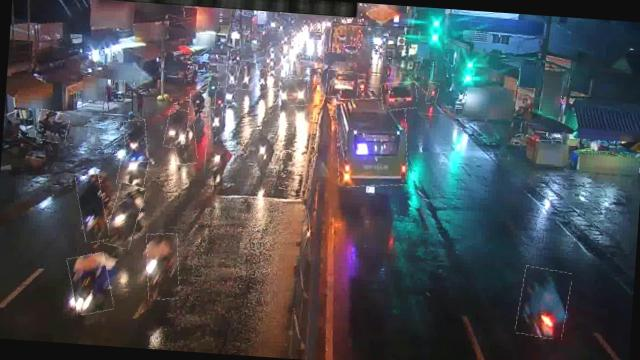Bike: (516, 267, 572, 339), (66, 251, 114, 315), (144, 232, 182, 300), (106, 182, 144, 249), (74, 173, 110, 243), (122, 119, 149, 163), (117, 150, 148, 188), (204, 138, 228, 186), (35, 109, 69, 142), (172, 123, 198, 166), (250, 128, 274, 174), (164, 108, 189, 148), (188, 90, 210, 119), (236, 60, 256, 89), (208, 107, 222, 142), (206, 73, 219, 98), (426, 81, 440, 104), (224, 80, 236, 105), (225, 61, 238, 84), (214, 86, 225, 110), (258, 68, 268, 90), (356, 74, 366, 94)
Bus: (333, 94, 411, 189)
Car: (380, 80, 418, 111), (324, 70, 358, 99), (278, 78, 310, 106)
